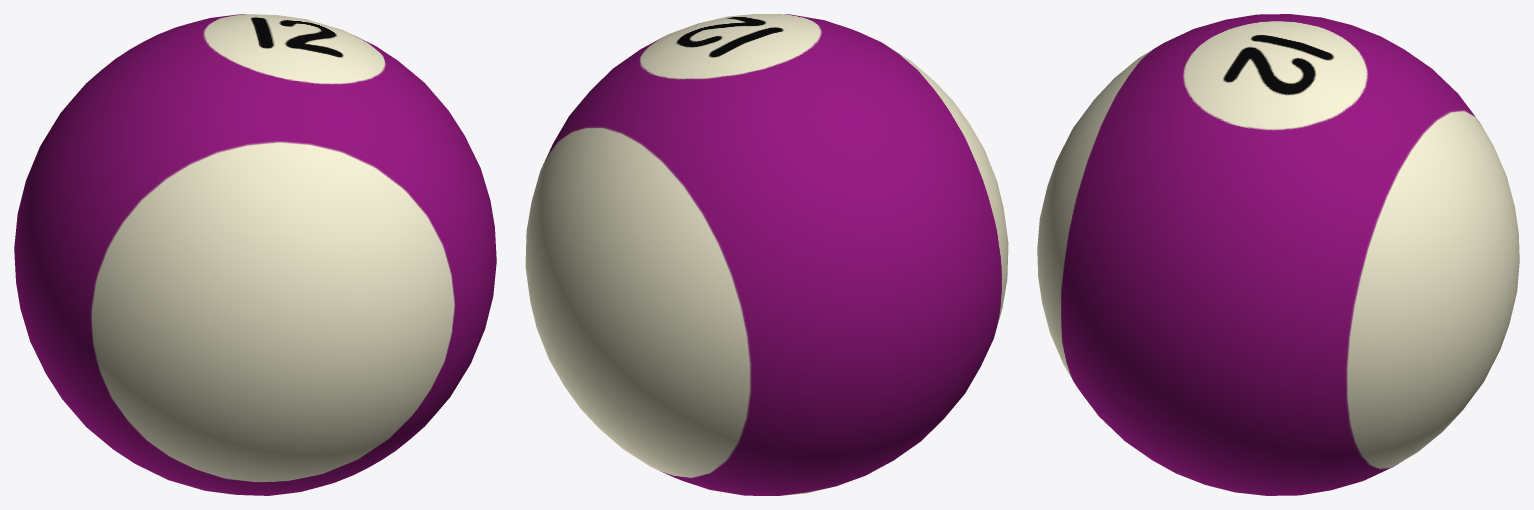
The model's file is bola14.obj.
The picture shows the model from 3 angles, left to right: view 1: azimuth 30°, elevation 25°; view 2: azimuth 150°, elevation 25°; view 3: azimuth 270°, elevation 25°; orthographic projection.
Visible parts, largest first — view 1: 12_Ball; view 2: 12_Ball; view 3: 12_Ball.
Boxes of the visible parts, <box> form: 12_Ball: <box>14,14,496,495</box>; 12_Ball: <box>525,14,1008,495</box>; 12_Ball: <box>1037,14,1519,495</box>.
Size of the model in its own units: 0.0508 by 0.0509 by 0.0509.
Materials: 1 (1 with a texture image).
